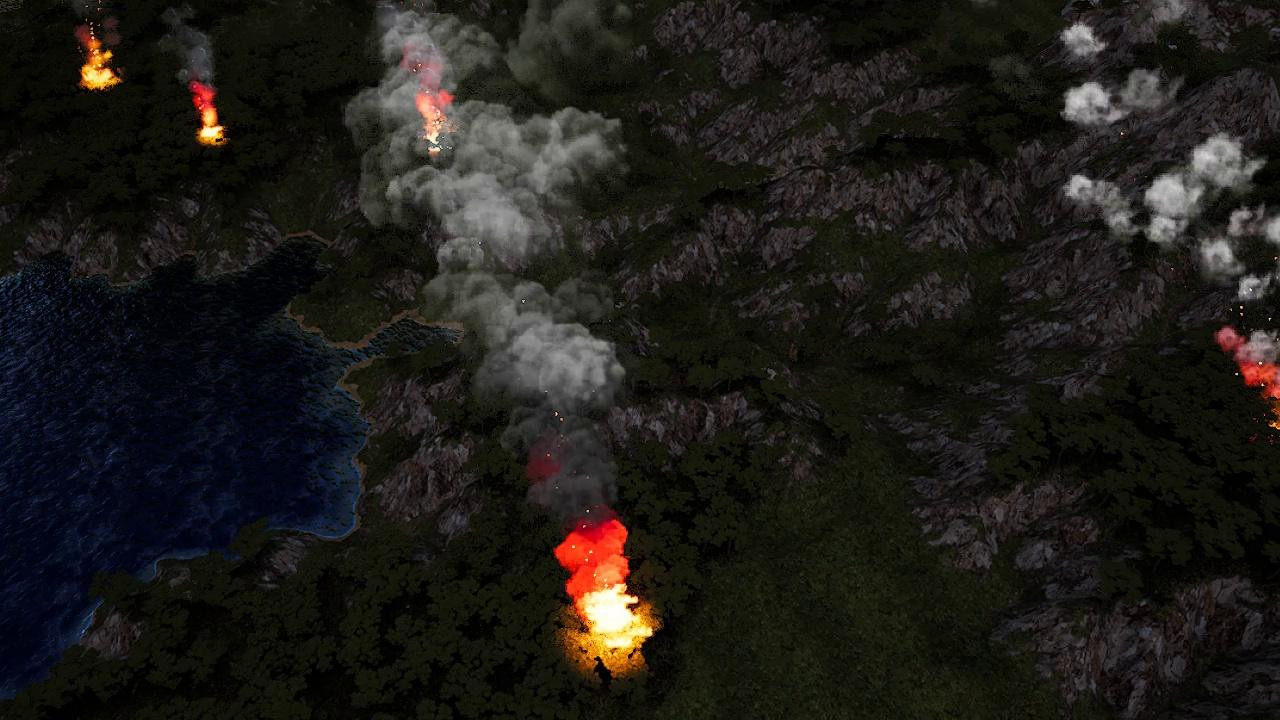fire: (578, 579, 657, 658), (415, 89, 454, 153), (79, 40, 115, 89), (197, 103, 226, 142)
smoke: (358, 0, 633, 599), (1052, 130, 1275, 440), (1059, 64, 1186, 130), (160, 2, 217, 105), (58, 0, 105, 44), (1058, 21, 1107, 62)
